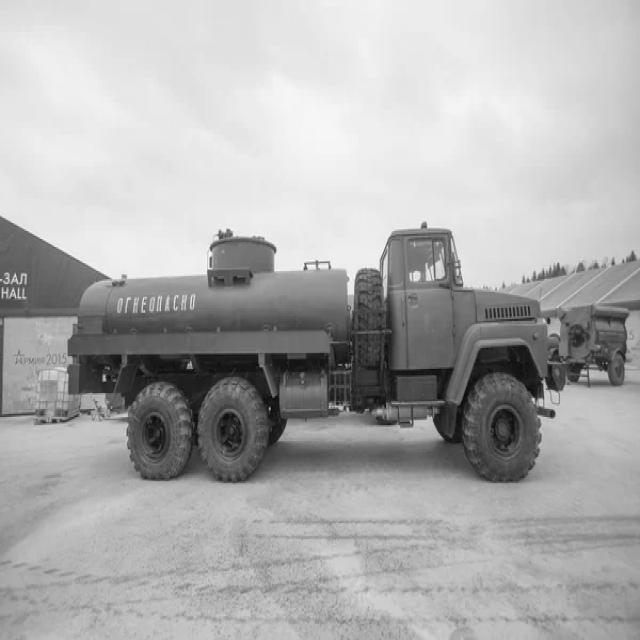Truck: (70, 225, 566, 482)
